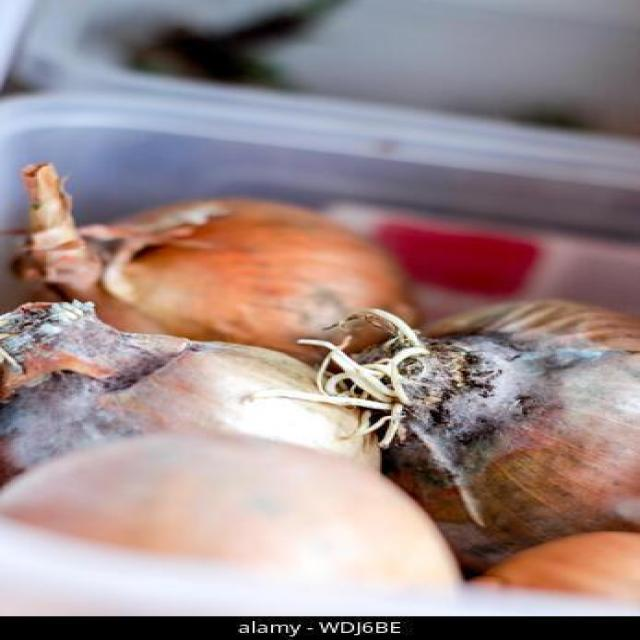Onion: (2, 161, 420, 370), (335, 293, 640, 534), (0, 296, 380, 486), (0, 434, 454, 586), (472, 533, 640, 596)
